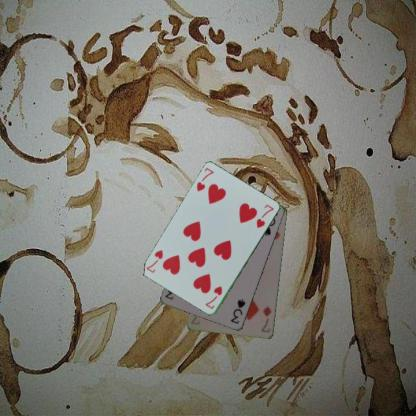3s: (228, 296, 247, 326)
7d: (259, 304, 273, 334)
7h: (194, 165, 215, 193), (202, 284, 223, 310)
